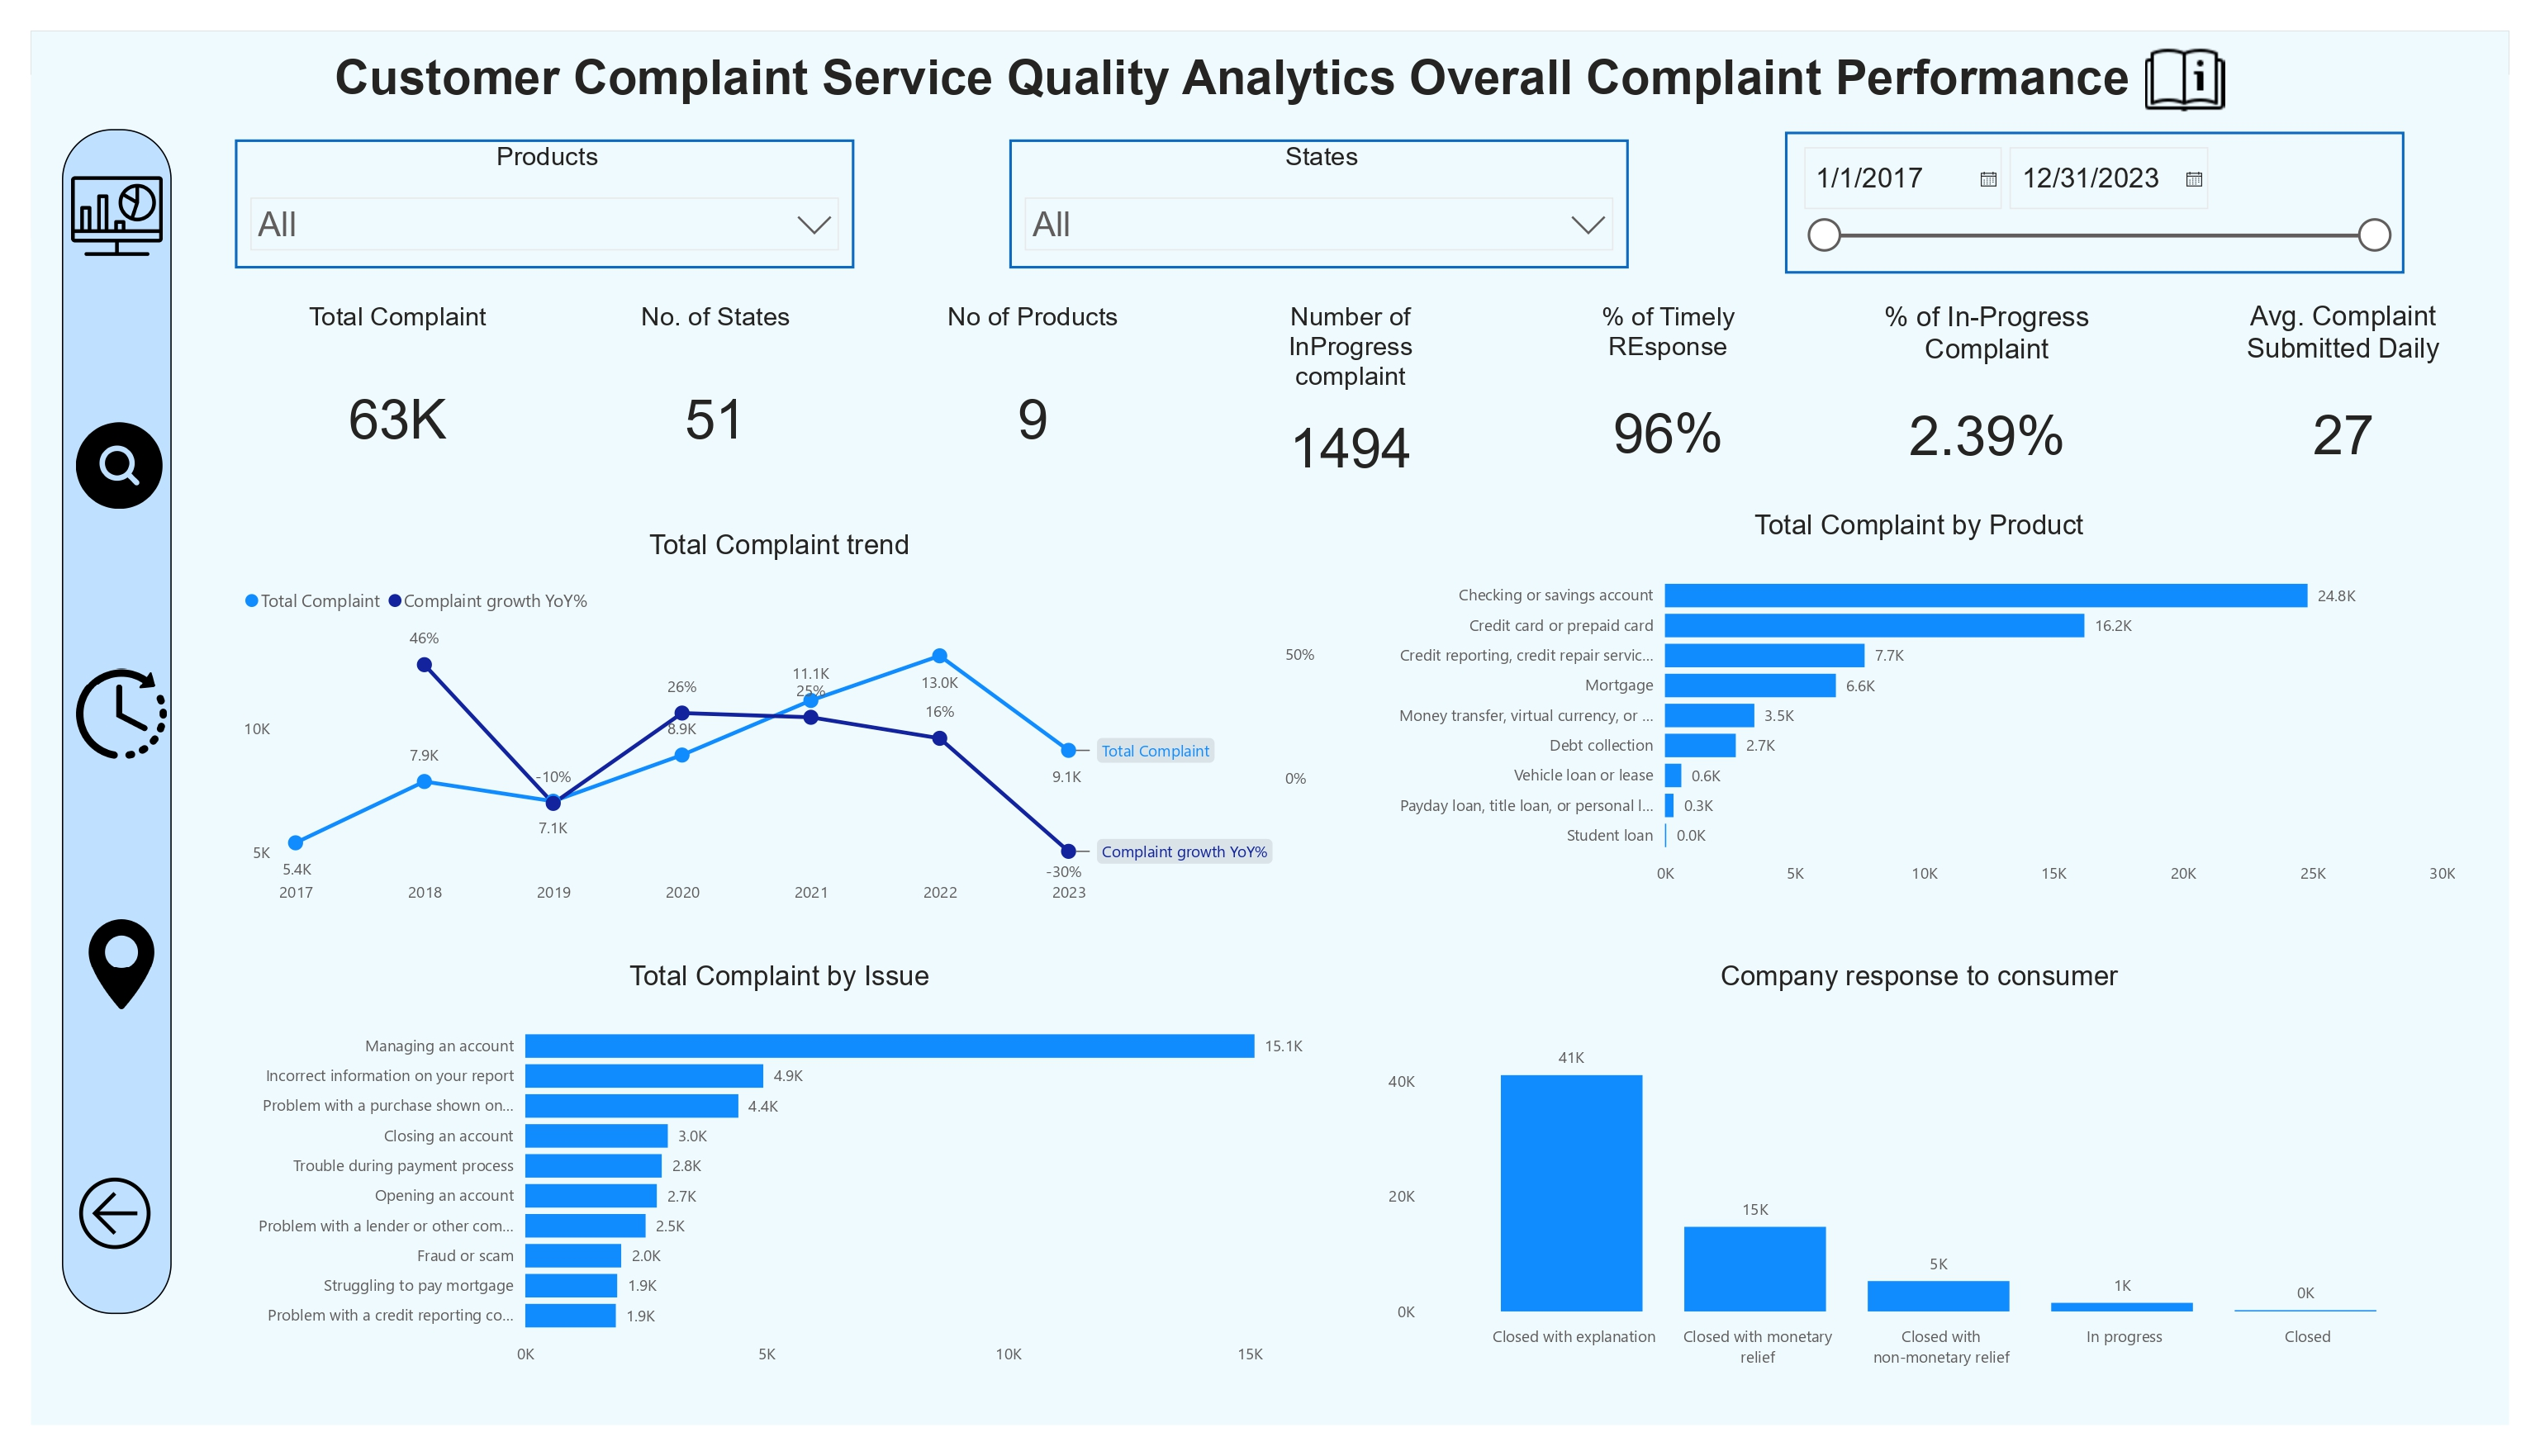

This screenshot's page, from the dashboard's own definition file:
{"tool":"powerbi","page":{"name":"OVERVIEW","canvas":[1920,1080],"ordinal":1},"visuals":[{"type":"shape","box":[23.8,75.6,85,918],"z":0},{"type":"image","box":[30.2,108,71.3,71.3],"z":2000},{"type":"image","box":[35,494,70,70],"z":3000},{"type":"image","box":[35,687.7,70,70],"z":4000},{"type":"image","box":[32.5,302.9,70,67.5],"z":5000},{"type":"textbox","box":[220,10,1416.7,66.7],"z":6000},{"type":"card","title":"Total Complaint","fields":{"Values":["Fact_Customer_Complaint.Total Complaint"]},"box":[192.2,209.7,183.3,144],"z":7000},{"type":"card","title":"No. of States","fields":{"Values":["Fact_Customer_Complaint.Total States"]},"box":[438.7,209.7,183,144],"z":8000},{"type":"card","title":"No of Products","fields":{"Values":["Fact_Customer_Complaint.Total Products"]},"box":[684.9,209.7,183,144],"z":9000},{"type":"card","title":"% of Timely REsponse","fields":{"Values":["Fact_Customer_Complaint.% of Timely response"]},"box":[1177.3,209.7,183,144],"z":10000},{"type":"card","title":"Number of InProgress complaint","fields":{"Values":["Fact_Customer_Complaint.In_Progress Complaint"]},"box":[931.1,209.7,183,144],"z":11000},{"type":"card","title":"% of In-Progress Complaint","fields":{"Values":["Fact_Customer_Complaint.In_Progress Complaint %"]},"box":[1423.5,209.7,183,144],"z":12000},{"type":"card","title":"Avg. Complaint Submitted Daily","fields":{"Values":["Fact_Customer_Complaint.Avg_complaint Per day"]},"box":[1700,208.8,183,144],"z":13000},{"type":"slicer","title":"Date Range","fields":{"Values":["Dim_Date.Date"]},"box":[1358.8,77.6,480,110.2],"z":14000},{"type":"slicer","title":"States","fields":{"Values":["Dim_State.Full State Name"]},"box":[758.3,84,480,100],"z":15000},{"type":"slicer","title":"Products","fields":{"Values":["Dim_Product.Product"]},"box":[157.8,84,480,100],"z":16000},{"type":"lineChart","title":"Total Complaint trend","fields":{"Category":["Dim_Date.Date Hierarchy.Year","Dim_Date.Date Hierarchy.Month Name"],"Y":["Fact_Customer_Complaint.Total Complaint"],"Y2":["Fact_Customer_Complaint.Complaint growth YoY%"]},"box":[160,385.7,840,300],"z":17000},{"type":"barChart","fields":{"Category":["Dim_Product.Product"],"Y":["Fact_Customer_Complaint.Total Complaint"]},"box":[1043.3,370.7,840,300],"z":18000},{"type":"barChart","fields":{"Category":["Dim_Issues.Issue"],"Y":["Fact_Customer_Complaint.Total Complaint"]},"box":[160,720,840,323],"z":19000},{"type":"columnChart","title":"Company response to consumer","fields":{"Category":["Fact_Customer_Complaint.Company response to consumer"],"Y":["Fact_Customer_Complaint.Total Complaint"]},"box":[1043,720,840,323],"z":20000},{"type":"actionButton","box":[30.2,881.3,72.5,70],"z":21000},{"type":"image","box":[1637.5,0,62.5,75],"z":21001}]}

Visuals, with their boxes on the page's 1920x1080 design canvas (x1, y1, x2, y2). These are canvas units, not pixel positions in the 2540x1456 screenshot, which may show the page scaled, cropped or inside an application window:
shape: 24, 76, 109, 994
image: 30, 108, 102, 179
image: 35, 494, 105, 564
image: 35, 688, 105, 758
image: 32, 303, 102, 370
textbox: 220, 10, 1637, 77
"Total Complaint" card: 192, 210, 376, 354
"No. of States" card: 439, 210, 622, 354
"No of Products" card: 685, 210, 868, 354
"% of Timely REsponse" card: 1177, 210, 1360, 354
"Number of InProgress complaint" card: 931, 210, 1114, 354
"% of In-Progress Complaint" card: 1424, 210, 1606, 354
"Avg. Complaint Submitted Daily" card: 1700, 209, 1883, 353
"Date Range" slicer: 1359, 78, 1839, 188
"States" slicer: 758, 84, 1238, 184
"Products" slicer: 158, 84, 638, 184
"Total Complaint trend" lineChart: 160, 386, 1000, 686
barChart - Dim_Product.Product x Fact_Customer_Complaint.Total Complaint: 1043, 371, 1883, 671
barChart - Dim_Issues.Issue x Fact_Customer_Complaint.Total Complaint: 160, 720, 1000, 1043
"Company response to consumer" columnChart: 1043, 720, 1883, 1043
actionButton: 30, 881, 103, 951
image: 1638, 0, 1700, 75
